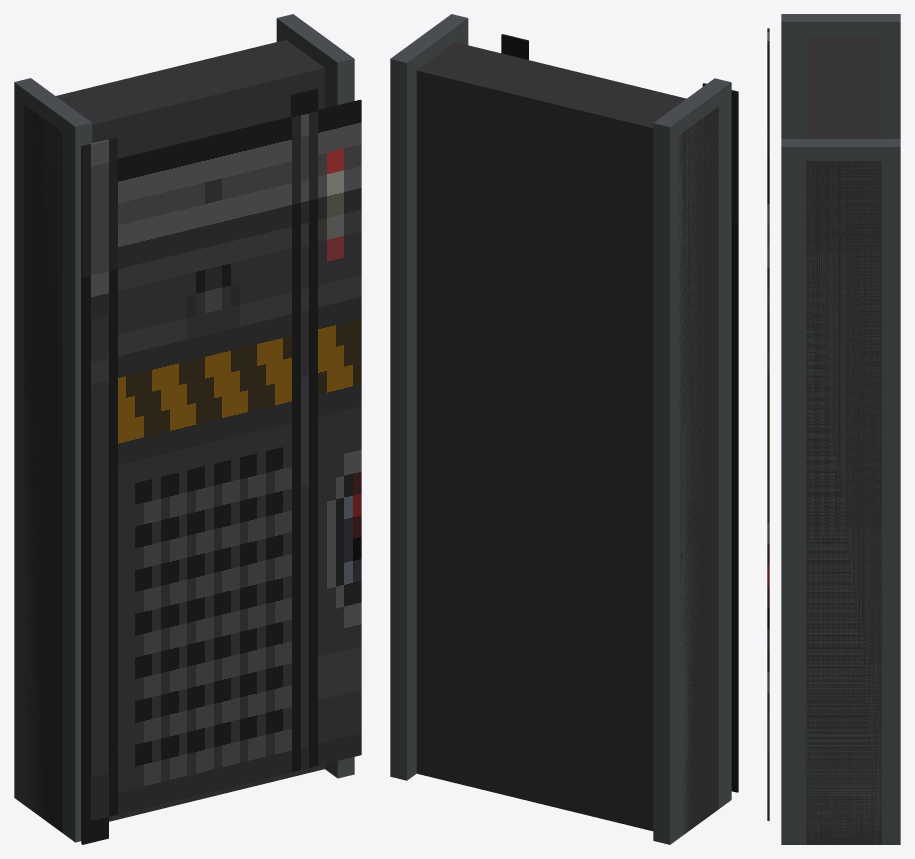
File: CMU3DReduxRMCElevatorDoorBroken.glb
3 renders of one model, left to right at view 1: azimuth 30°, elevation 25°; view 2: azimuth 150°, elevation 25°; view 3: azimuth 270°, elevation 25°, orthographic. The views are drawn at different scales.
Parts seen in each view (by area): view 1: source face, closed steel door backing, door frame (×2); view 2: closed steel door backing, door frame (×2), source face; view 3: door frame (×2), closed steel door backing, source face.
Boxes of the visible parts, x1,y1,x2,y2 form: source face: (81, 88, 361, 844); closed steel door backing: (24, 40, 324, 832); door frame (×2): (14, 14, 354, 842); closed steel door backing: (416, 42, 718, 835); door frame (×2): (390, 14, 731, 844); source face: (501, 34, 738, 792); door frame (×2): (781, 14, 900, 844); closed steel door backing: (806, 36, 881, 844); source face: (767, 28, 769, 820).
Bounding box in the file's own units: 1 × 2.45 × 0.425.
Materials: 3 (1 with a texture image).
